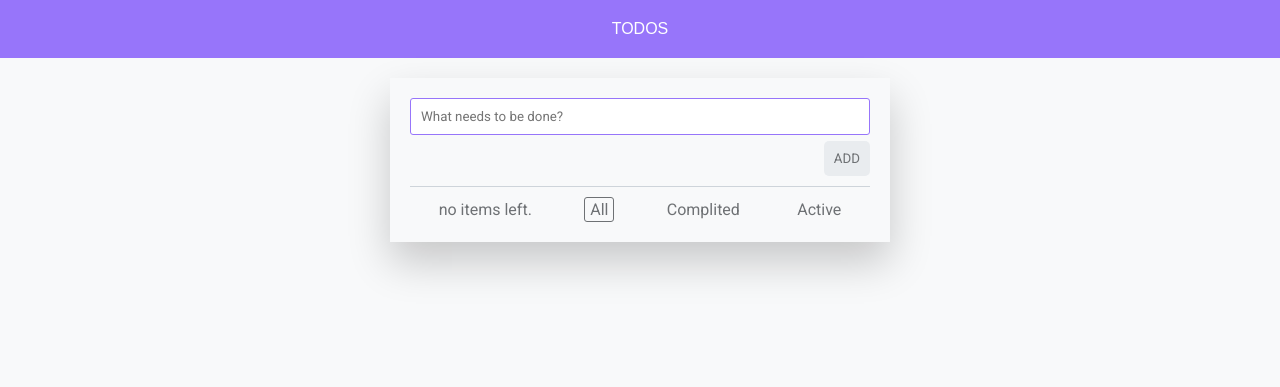
<App /> › todo remove function › removs todo
Type "test" into the field with placeholder "What needs to be done?". click: (640, 116)
box: [410,98,870,135]
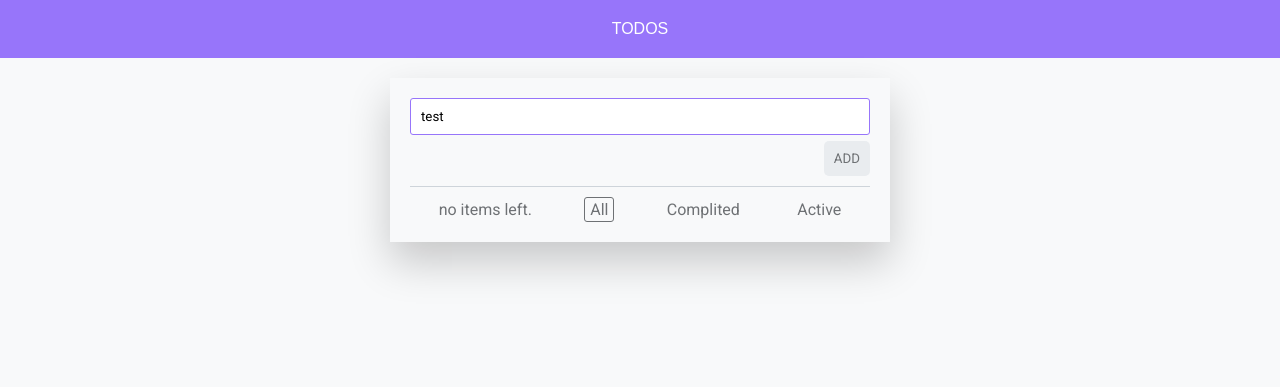
Click the button "ADD". click: click(847, 158)
box: [824,141,870,176]
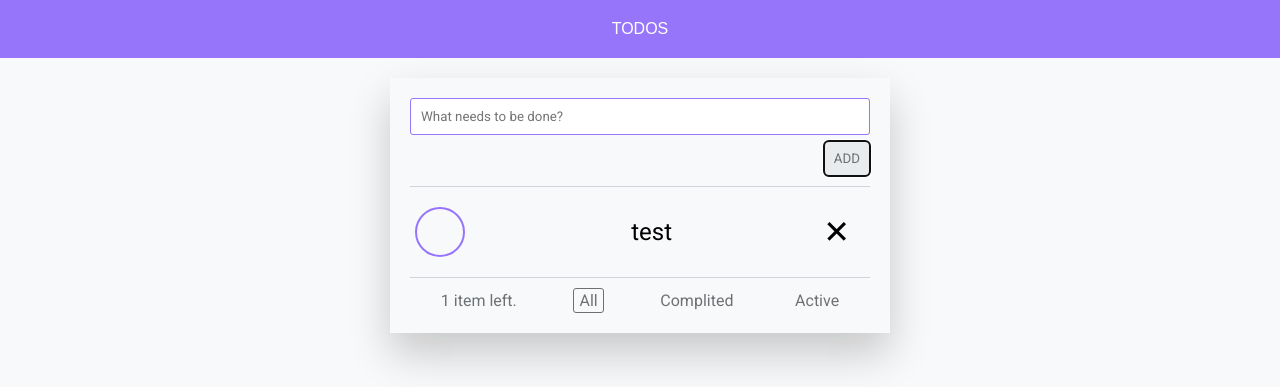
Click the button with test id "remove-btn". click: click(837, 232)
box: [823,213,850,251]
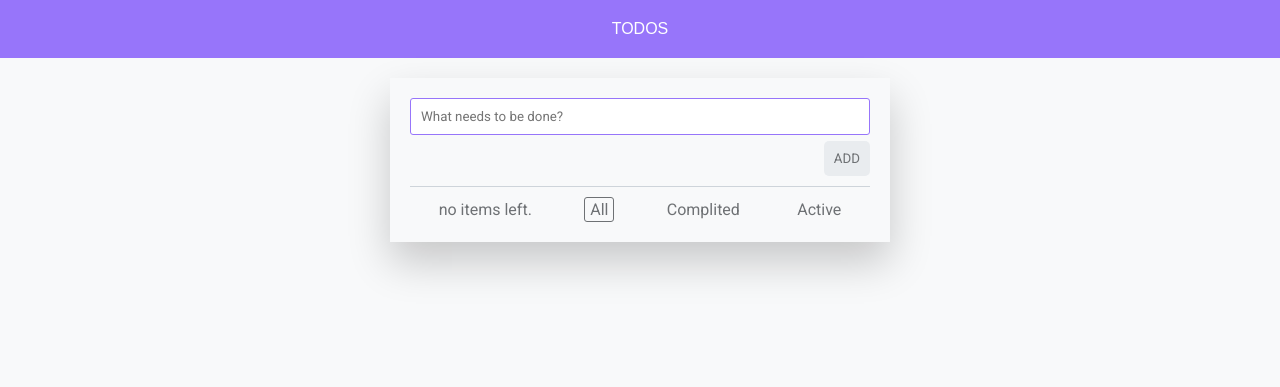
Result: the text "test" is gone
